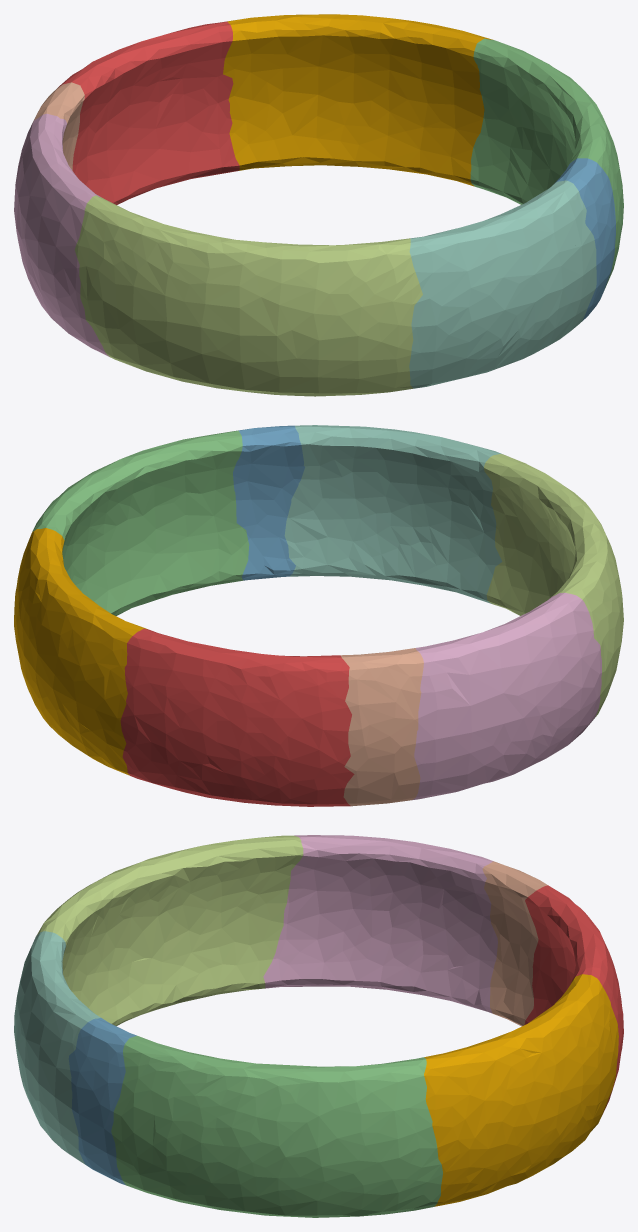
Rendered from fractured_62_8pcs.glb.
The picture shows the model from 3 angles, top to bottom: view 1: azimuth 30°, elevation 25°; view 2: azimuth 150°, elevation 25°; view 3: azimuth 270°, elevation 25°; orthographic projection.
Visible parts, largest first — view 1: piece_5.obj, piece_0.obj, piece_4.obj, piece_1.obj, piece_3.obj, piece_6.obj, piece_2.obj, piece_7.obj; view 2: piece_1.obj, piece_4.obj, piece_6.obj, piece_3.obj, piece_0.obj, piece_5.obj, piece_7.obj, piece_2.obj; view 3: piece_3.obj, piece_5.obj, piece_6.obj, piece_0.obj, piece_4.obj, piece_1.obj, piece_2.obj, piece_7.obj.
Part boxes in pixels (x1,y1,x2,y2): piece_5.obj: (75,195,422,396); piece_0.obj: (223,14,492,186); piece_4.obj: (409,180,596,388); piece_1.obj: (57,21,239,204); piece_3.obj: (470,38,623,288); piece_6.obj: (14,113,109,356); piece_2.obj: (554,158,615,320); piece_7.obj: (31,82,84,170); piece_1.obj: (120,628,354,806); piece_4.obj: (284,425,502,603); piece_6.obj: (412,592,601,800); piece_3.obj: (32,430,249,615); piece_0.obj: (14,528,147,775); piece_5.obj: (484,454,623,718); piece_7.obj: (340,648,423,806); piece_2.obj: (233,425,304,580); piece_3.obj: (111,1035,442,1217); piece_5.obj: (36,835,303,1026); piece_6.obj: (263,835,497,1013); piece_0.obj: (424,974,618,1206); piece_4.obj: (14,931,100,1165); piece_1.obj: (524,885,623,1114); piece_2.obj: (68,1017,136,1185); piece_7.obj: (482,861,547,1026).
Bounding box in the file's own units: 1 × 0.267 × 0.9974.
